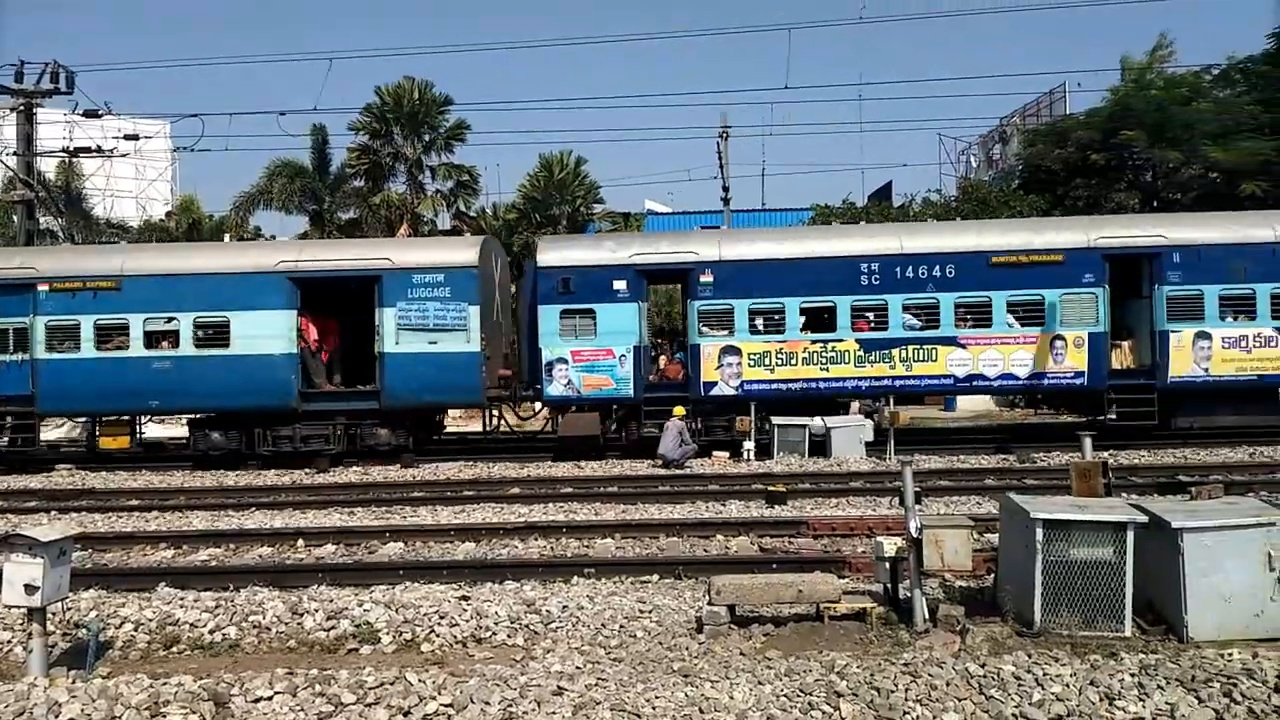Boogie: (891, 265, 962, 284)
Car Type: (402, 266, 460, 311)
